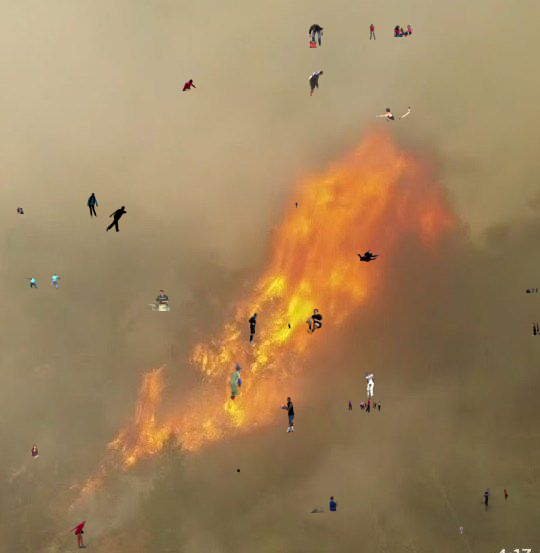Human: (106, 206, 127, 232), (374, 107, 410, 122), (69, 519, 87, 549), (280, 397, 295, 433), (27, 274, 60, 290), (308, 496, 339, 513), (145, 290, 170, 311), (308, 70, 328, 96), (229, 363, 243, 400), (348, 398, 382, 413), (479, 488, 500, 512), (304, 309, 323, 335), (369, 21, 391, 43), (308, 24, 325, 48), (248, 313, 258, 344), (357, 250, 380, 262), (87, 193, 98, 218), (365, 372, 375, 397), (394, 25, 413, 37), (182, 79, 196, 91), (29, 445, 39, 459), (532, 323, 540, 336), (526, 288, 538, 293), (16, 207, 24, 214), (504, 489, 508, 500), (272, 355, 275, 364), (460, 527, 463, 534), (288, 323, 291, 329), (237, 469, 240, 475), (295, 202, 298, 208), (335, 291, 338, 297)
